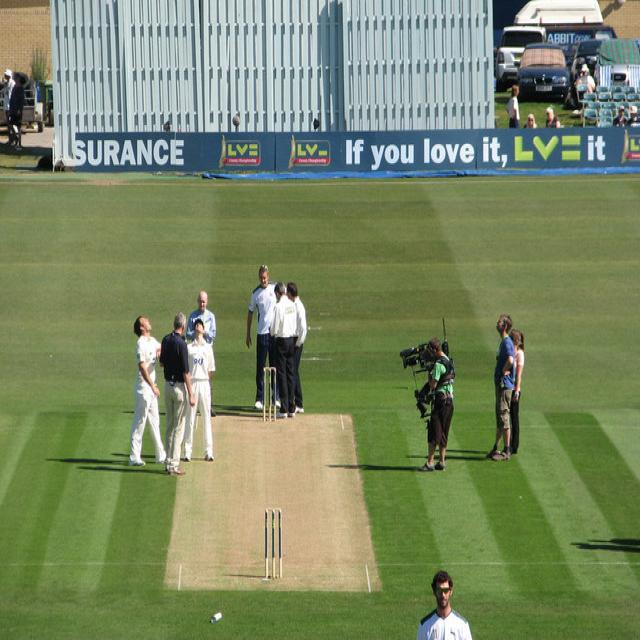stumps: (262, 505, 288, 582), (261, 365, 278, 426)
